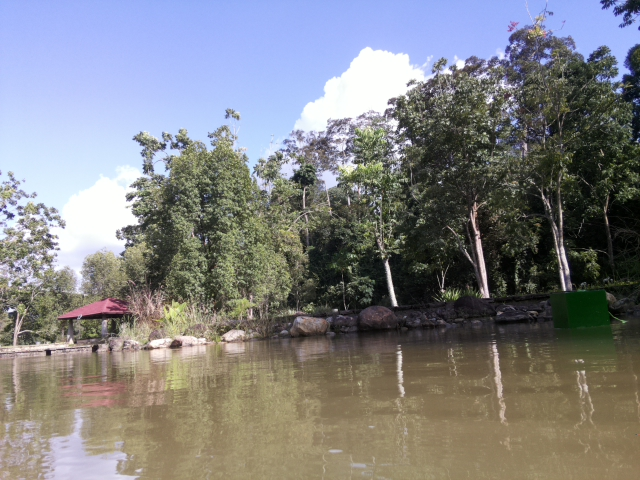obstacle: (548, 288, 613, 331)
